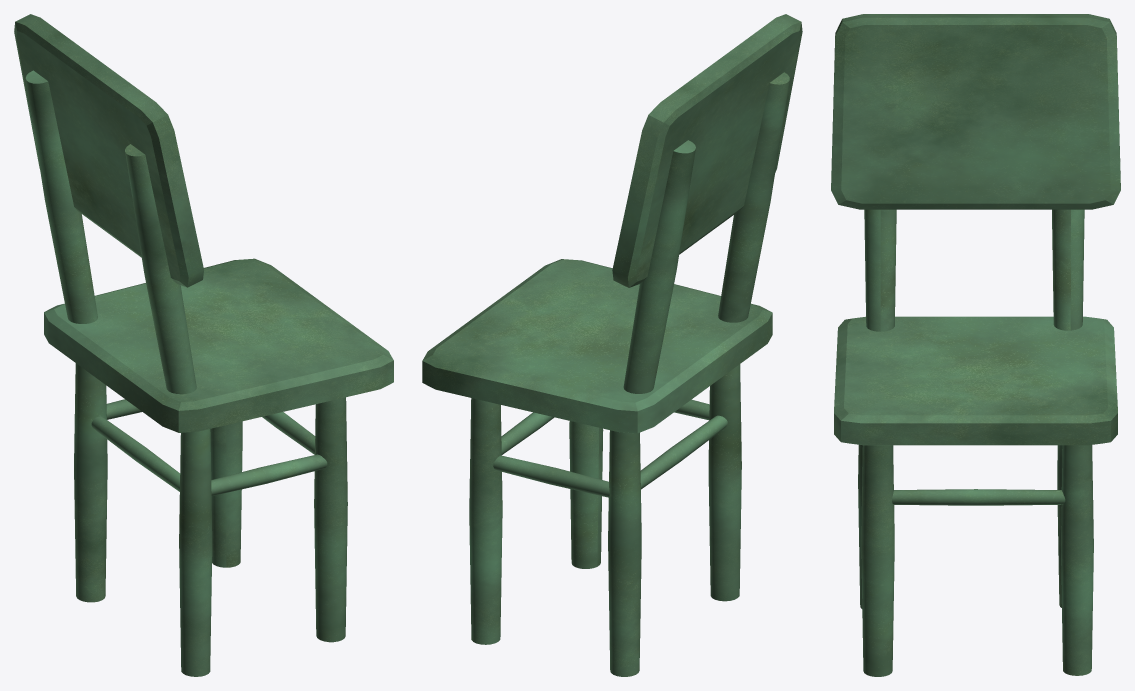
The model's file is Chair1.FBX.
3 renders of one model, left to right at view 1: azimuth 30°, elevation 25°; view 2: azimuth 150°, elevation 25°; view 3: azimuth 270°, elevation 25°, orthographic. The views are drawn at different scales.
Parts seen in each view (by area): view 1: Object048; view 2: Object048; view 3: Object048.
Part boxes in pixels (left/top/right/bottom): Object048: left=14, top=14, right=393, bottom=676; Object048: left=422, top=14, right=802, bottom=676; Object048: left=831, top=14, right=1120, bottom=676.
Bounding box in the file's own units: 40.17 × 87.94 × 40.73.
